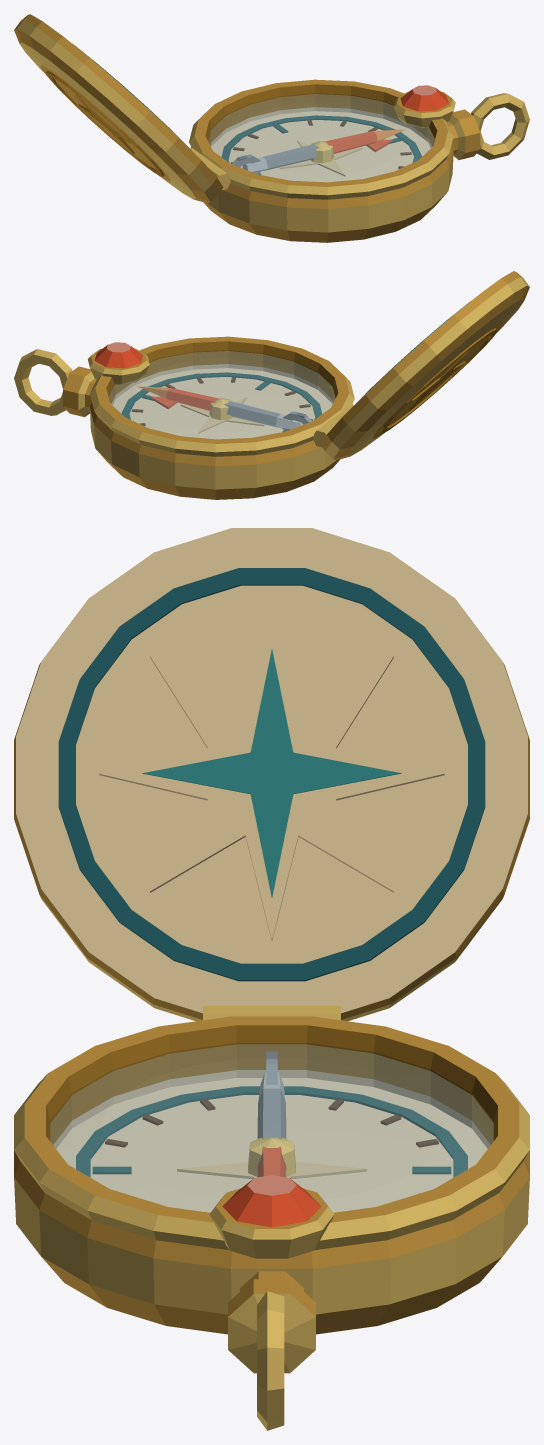
File: compass.glb
The picture shows the model from 3 angles, top to bottom: view 1: azimuth 30°, elevation 25°; view 2: azimuth 150°, elevation 25°; view 3: azimuth 270°, elevation 25°; orthographic projection. The views are drawn at different scales.
Parts seen in each view (by area): view 1: body, arrow, gem; view 2: body, arrow, gem; view 3: body, arrow, gem.
Boxes of the visible parts, x1,y1,x2,y2 form: body: (14,14,529,242); arrow: (231,129,405,174); gem: (400,85,448,111); body: (14,271,529,499); arrow: (137,386,312,431); gem: (94,342,142,368); body: (14,528,529,1430); arrow: (248,1051,295,1177); gem: (222,1175,321,1227).
Size of the model in its own units: 0.2576 by 0.1196 by 0.1195.
